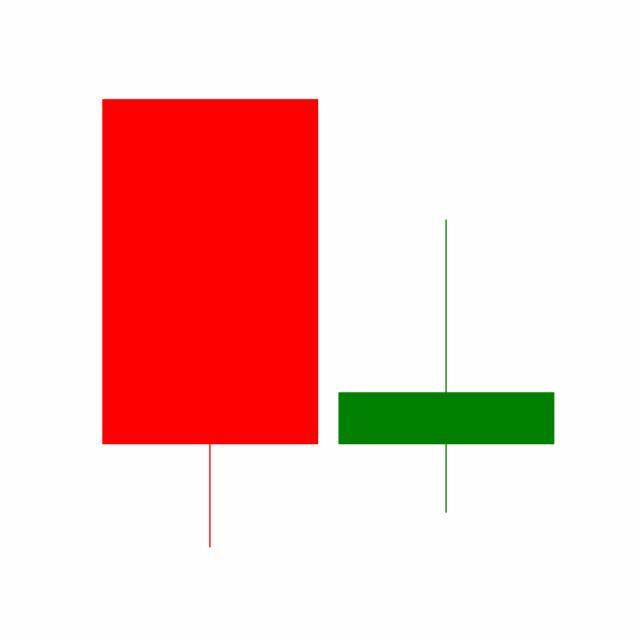Spinning Top: (328, 217, 566, 517)
